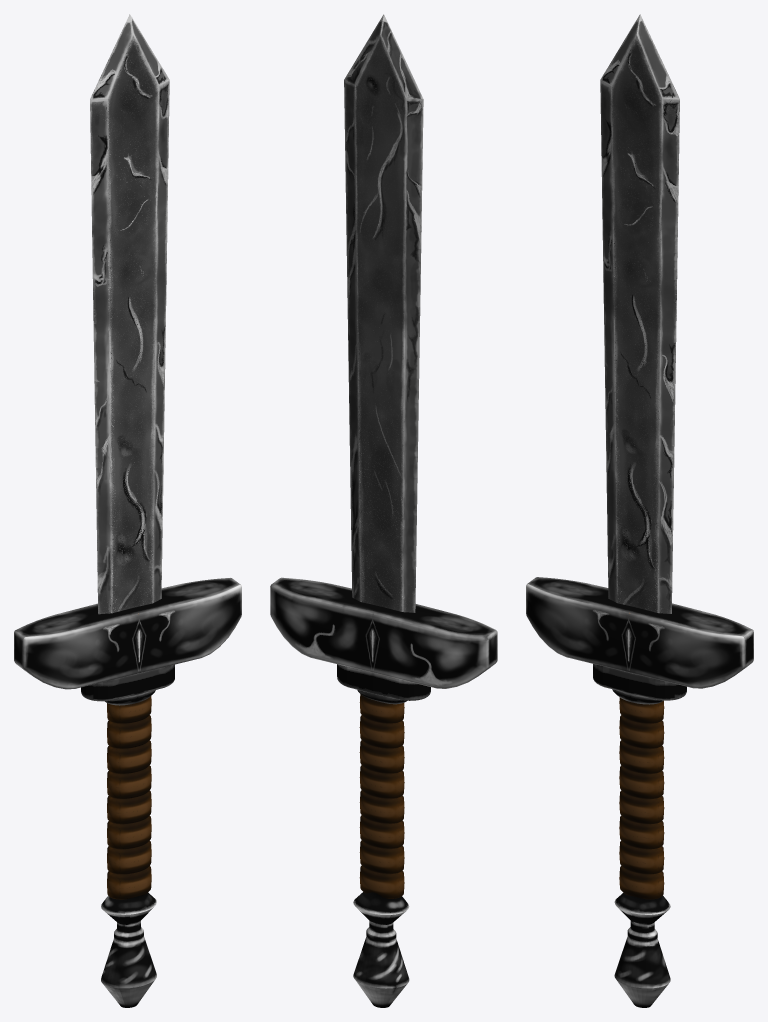
Rendered from Espada.fbx.
The picture shows the model from 3 angles, left to right: view 1: azimuth 30°, elevation 25°; view 2: azimuth 150°, elevation 25°; view 3: azimuth 330°, elevation 25°; orthographic projection.
Parts seen in each view (by area): view 1: Hoja, Cruz de Guardia, Agarradera, PuntaAgarradera; view 2: Hoja, Cruz de Guardia, Agarradera, PuntaAgarradera; view 3: Hoja, Cruz de Guardia, Agarradera, PuntaAgarradera.
Boxes of the visible parts, box(x1,y1,x2,y2) form: Hoja: box(90, 14, 169, 614); Cruz de Guardia: box(14, 578, 241, 705); Agarradera: box(107, 696, 151, 899); PuntaAgarradera: box(101, 892, 156, 1007); Hoja: box(344, 14, 423, 612); Cruz de Guardia: box(270, 577, 497, 704); Agarradera: box(359, 694, 404, 898); PuntaAgarradera: box(353, 892, 409, 1007); Hoja: box(600, 14, 679, 613); Cruz de Guardia: box(526, 577, 753, 704); Agarradera: box(619, 697, 664, 899); PuntaAgarradera: box(614, 893, 670, 1007).
Size of the model in its own units: 41.59 by 180 by 7.85.
